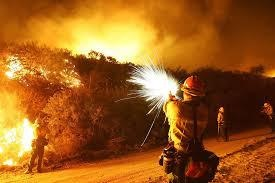fire: (0, 111, 40, 167)
